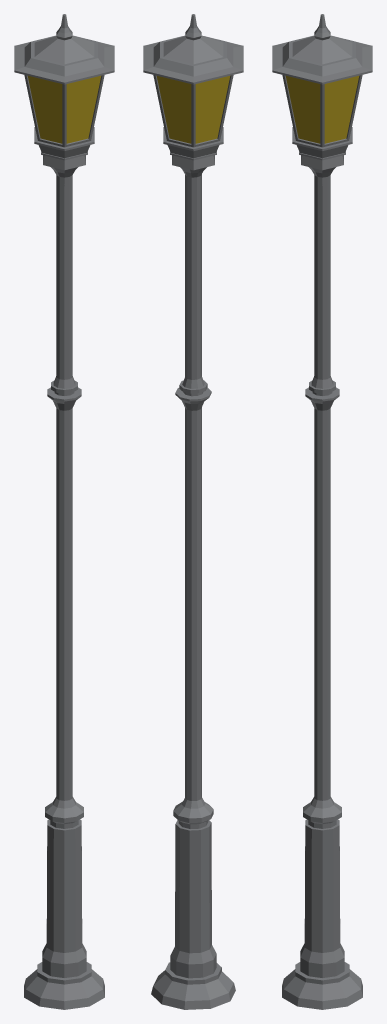
File: SM_streetlamp_german_01.fbx
3 views of the same model, side by side, from view 1: azimuth 90°, elevation 25°; view 2: azimuth 150°, elevation 25°; view 3: azimuth 270°, elevation 25° (orthographic).
Visible parts, largest first — view 1: Cylinder001; view 2: Cylinder001; view 3: Cylinder001.
Part boxes in pixels (x1,y1,x2,y2): Cylinder001: [14, 14, 114, 1009]; Cylinder001: [143, 14, 243, 1009]; Cylinder001: [272, 14, 372, 1009].
Bounding box in the file's own units: 17.7 × 15.33 × 164.
